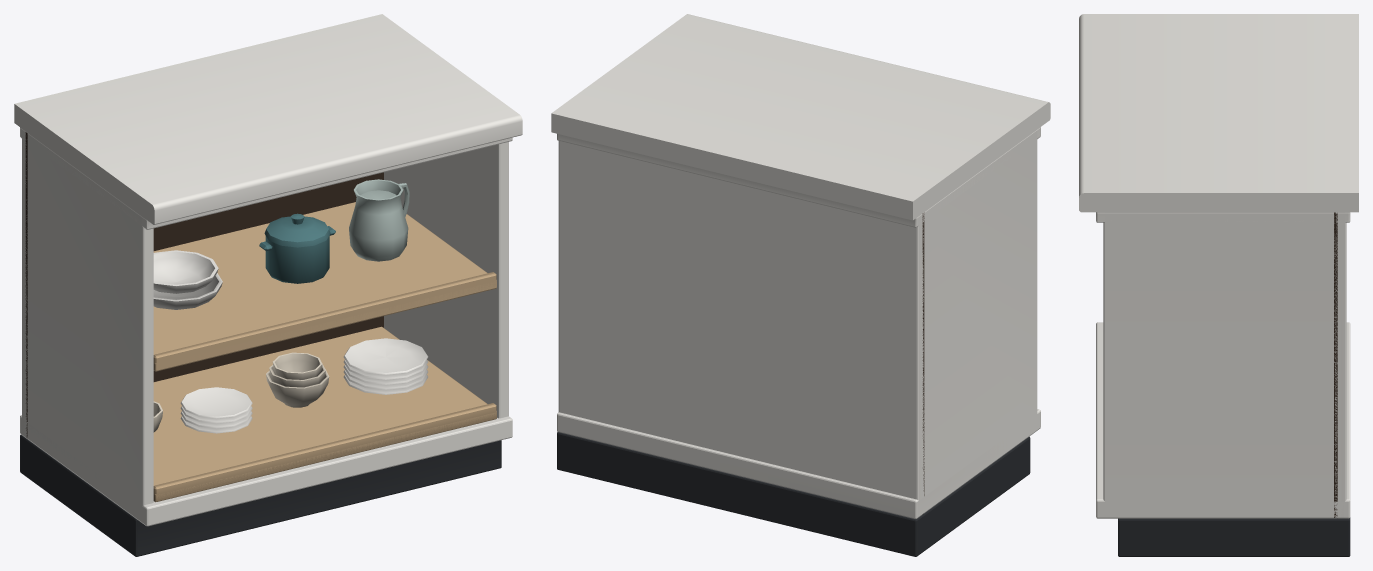
File: counterOpenShelf.glb
3 views of the same model, side by side, from view 1: azimuth 30°, elevation 25°; view 2: azimuth 150°, elevation 25°; view 3: azimuth 270°, elevation 25° (orthographic).
Parts seen in each view (by area): view 1: body; view 2: body; view 3: body.
Part boxes in pixels (left/top/right/bottom): body: left=14, top=14, right=522, bottom=556; body: left=551, top=14, right=1050, bottom=556; body: left=1079, top=14, right=1358, bottom=556.
Bounding box in the file's own units: 1 × 0.95 × 0.66.
